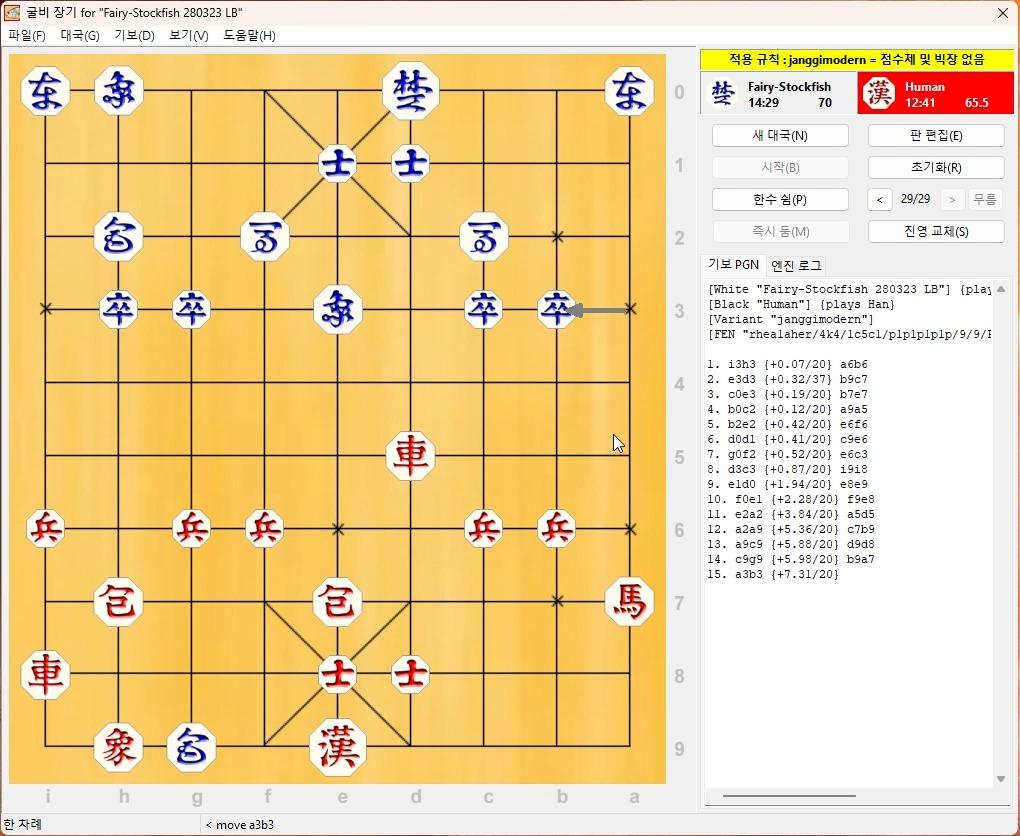cha_green: (603, 68, 653, 115), (21, 70, 69, 114)
cha_red: (389, 433, 438, 479), (23, 651, 73, 696)
jol_green: (536, 292, 578, 327), (466, 292, 505, 328), (171, 292, 210, 328), (98, 293, 137, 328)
jol_red: (537, 512, 579, 547), (24, 512, 65, 547), (175, 512, 216, 547), (465, 511, 502, 549), (243, 512, 283, 547)
ma_green: (458, 211, 508, 263), (242, 212, 291, 258)
ma_red: (604, 579, 655, 624)
po_green: (166, 722, 213, 770), (94, 217, 144, 262)
po_red: (94, 577, 144, 624), (315, 577, 364, 622)
sa_green: (390, 144, 432, 183), (319, 144, 359, 183)
sa_red: (319, 655, 359, 695), (392, 654, 430, 696)
sang_green: (314, 286, 364, 336), (95, 68, 144, 114)
sang_red: (91, 725, 144, 770)
wang_green: (382, 64, 439, 117)
wang_red: (307, 721, 367, 772)
